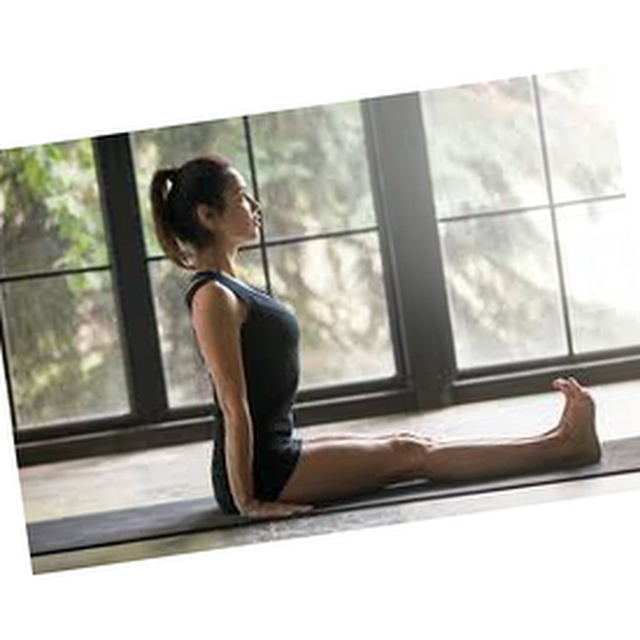Staff_Pose: (150, 155, 602, 520)
